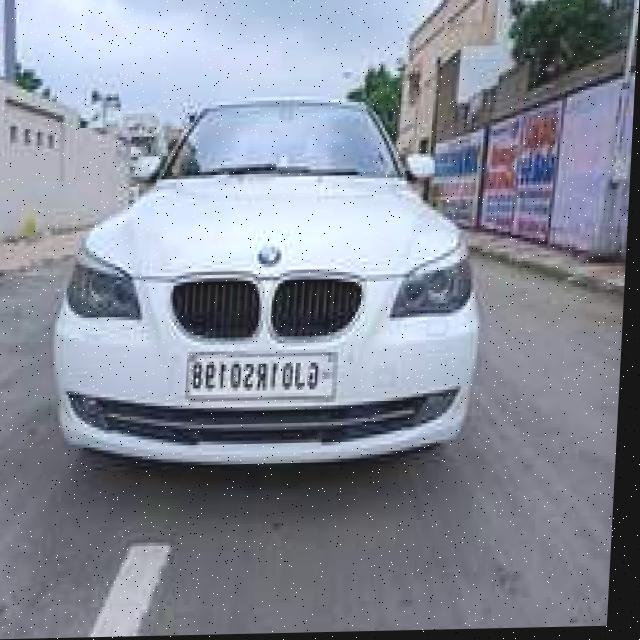plate: (189, 347, 346, 403)
